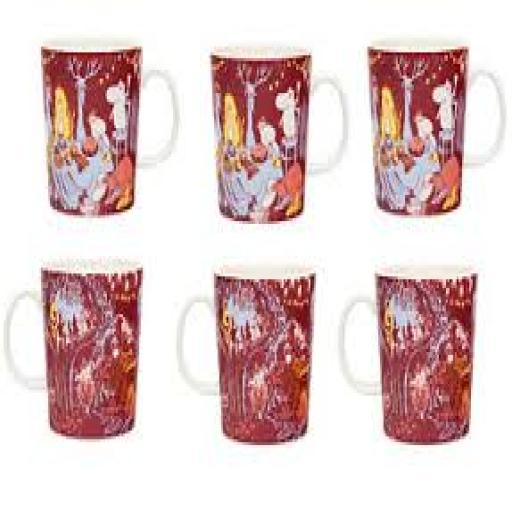red mug: (4, 262, 142, 439), (368, 41, 506, 215), (341, 268, 476, 445), (42, 41, 178, 215), (177, 268, 313, 442), (211, 47, 347, 221)
